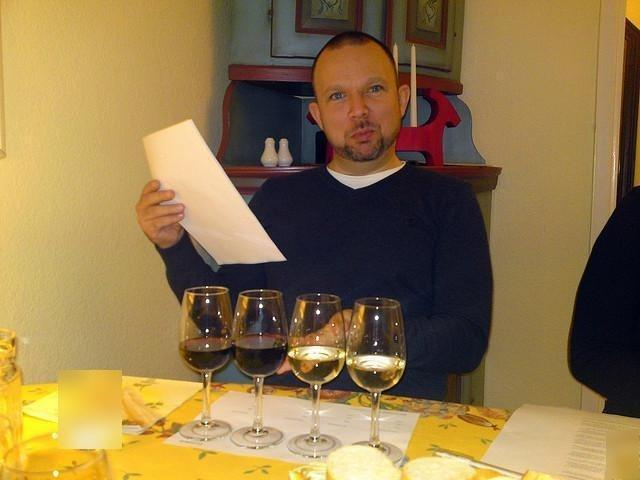glass-wine: (344, 296, 406, 463), (229, 289, 290, 450), (288, 293, 346, 458), (177, 286, 234, 442)
